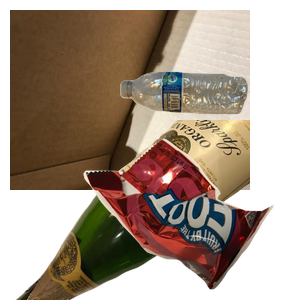cardboard: (10, 10, 250, 190)
glass: (13, 120, 253, 300)
plastic: (118, 69, 300, 176)
trash: (81, 136, 300, 300)
